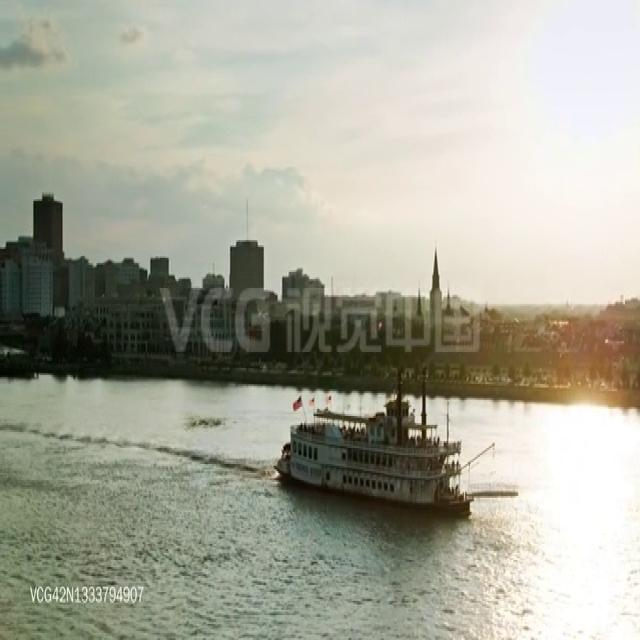passenger ship: (279, 392, 468, 514)
